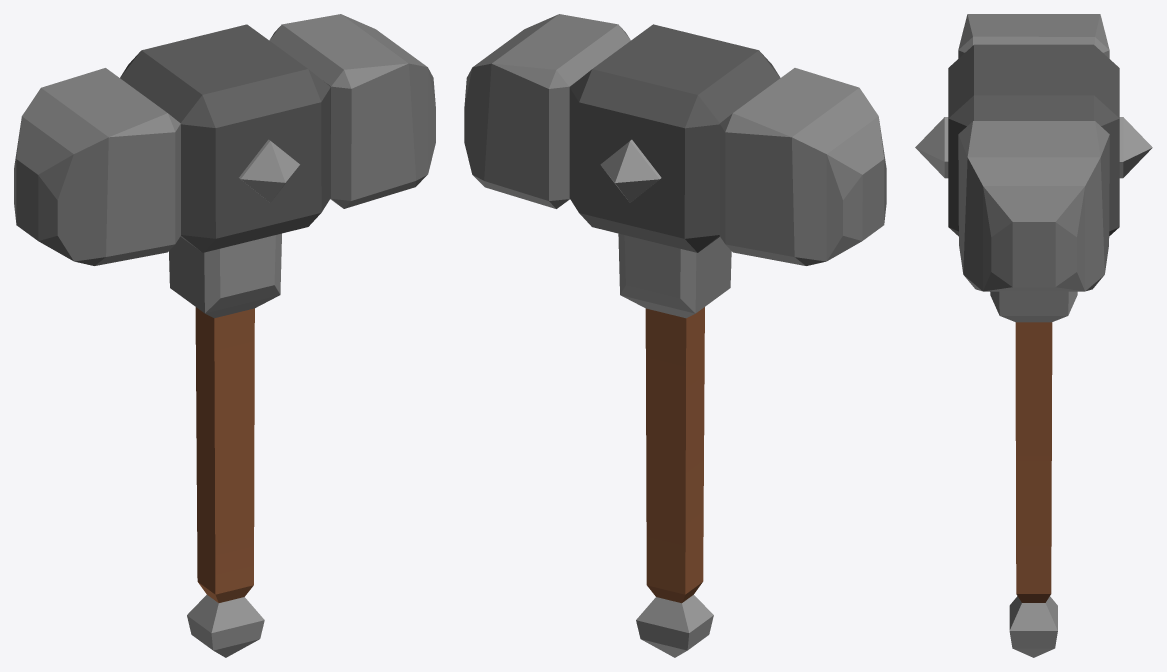
File: Hammer_E.fbx
3 views of the same model, side by side, from view 1: azimuth 30°, elevation 25°; view 2: azimuth 150°, elevation 25°; view 3: azimuth 270°, elevation 25° (orthographic).
Visible parts, largest first — view 1: Hammer_E; view 2: Hammer_E; view 3: Hammer_E.
Part boxes in pixels (box(x1,y1,x2,y2)): Hammer_E: box(14, 14, 435, 657); Hammer_E: box(464, 14, 886, 657); Hammer_E: box(915, 14, 1152, 657).
Bounding box in the file's own units: 52.98 × 76.6 × 28.09.
